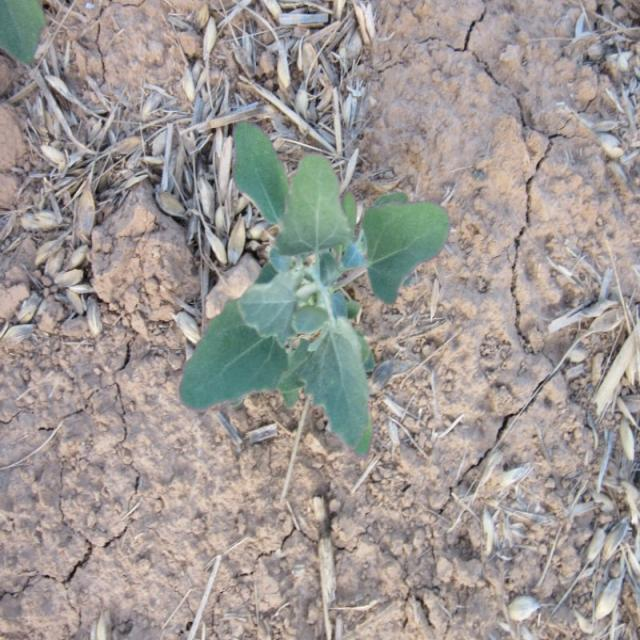ca: (184, 118, 448, 456)
